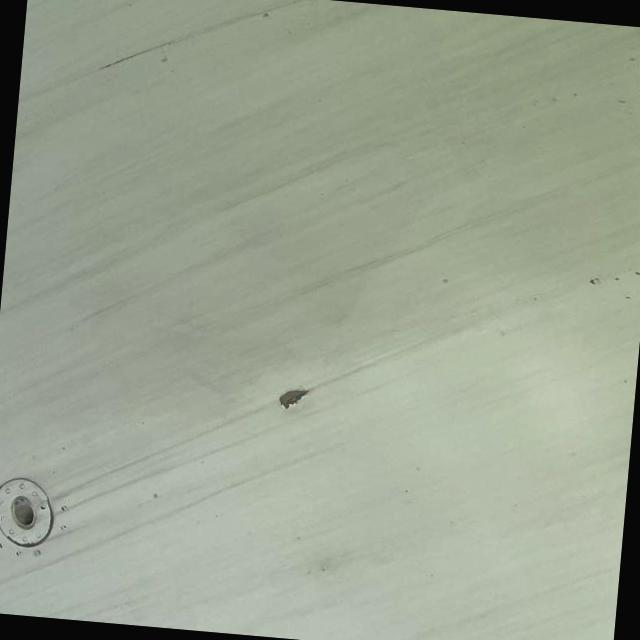crack: (97, 30, 161, 77), (264, 376, 316, 409)
